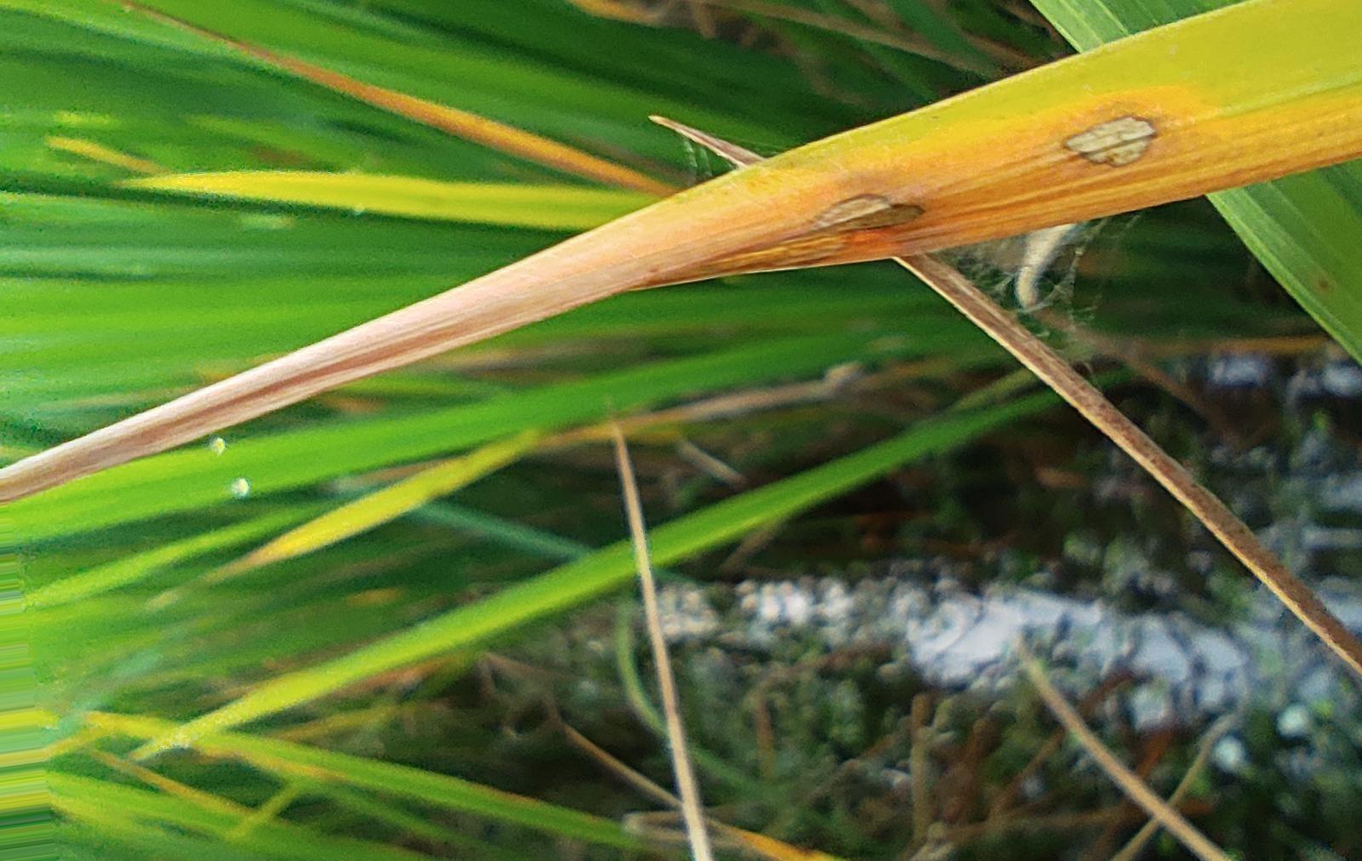LEAF BLAST: (1061, 113, 1158, 166), (812, 193, 924, 233)
